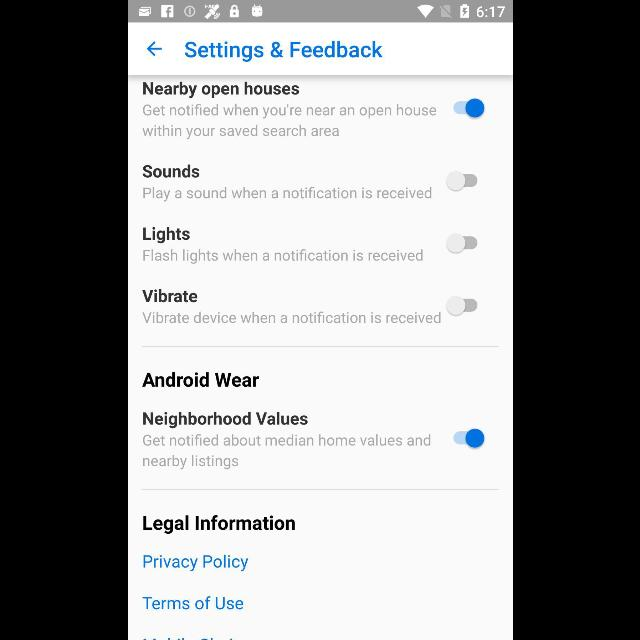icon: (146, 42, 162, 56)
switch: (445, 233, 477, 254), (445, 296, 477, 316), (445, 171, 477, 191), (452, 428, 483, 448), (452, 99, 483, 119)
text: (142, 434, 430, 471), (142, 104, 436, 140), (142, 248, 422, 264), (142, 188, 432, 202), (185, 42, 382, 62), (142, 312, 440, 324), (143, 514, 295, 534), (142, 412, 308, 428), (143, 82, 299, 98), (142, 554, 248, 572), (142, 371, 258, 387), (142, 596, 242, 610), (143, 226, 190, 244), (142, 164, 200, 178), (141, 289, 197, 303)
toolbar: (128, 23, 512, 75)
uppertaskbar: (128, 1, 512, 23)
